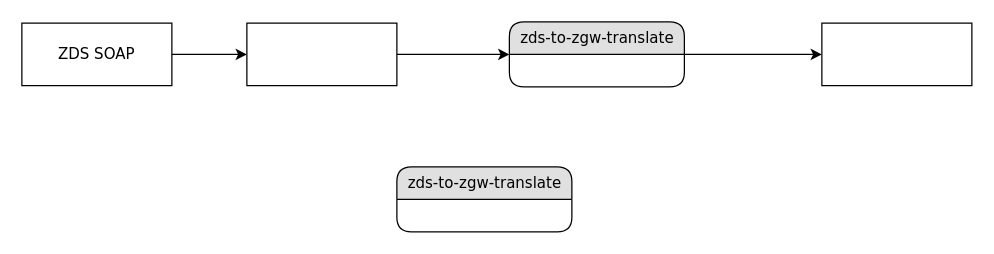
Some shapes in this 994 by 254 pixel diagram are drawn without their labels. Each missing label, with the centre of its shape:
"Router" belongs at point 321,54.
"ZGW REST" belongs at point 896,54.
